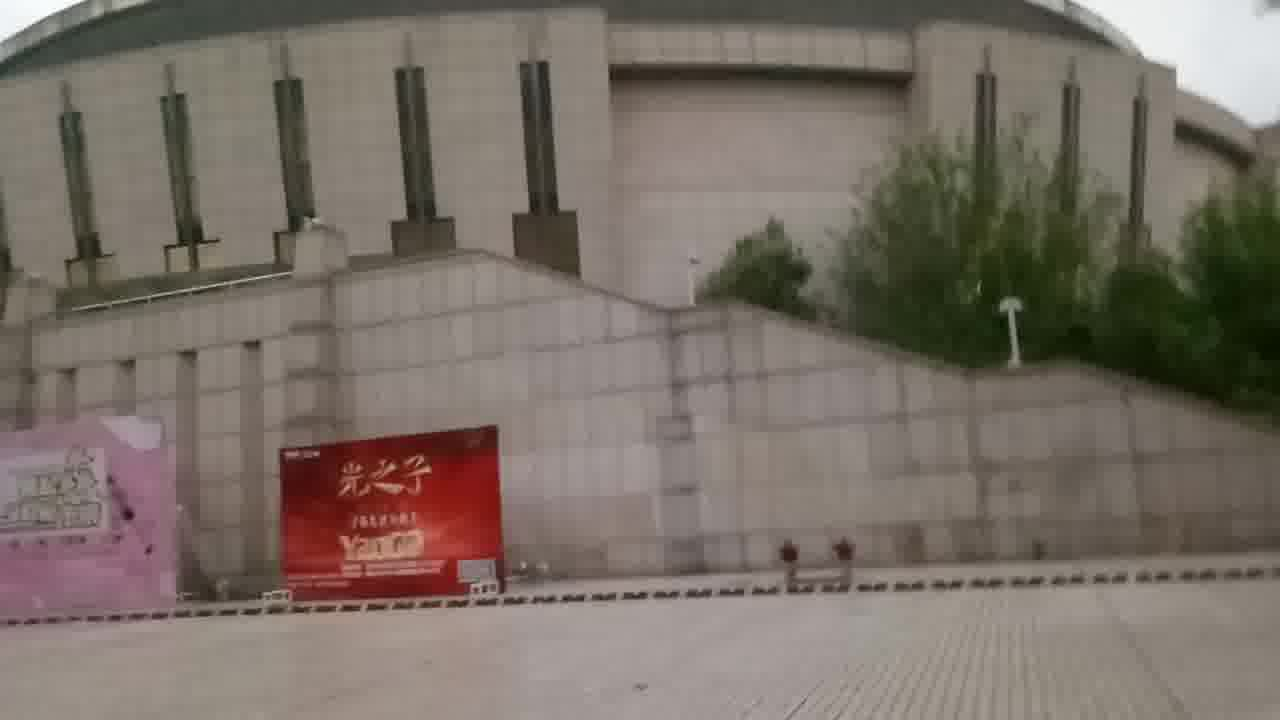zhongtiww: (3, 1, 1280, 613)
